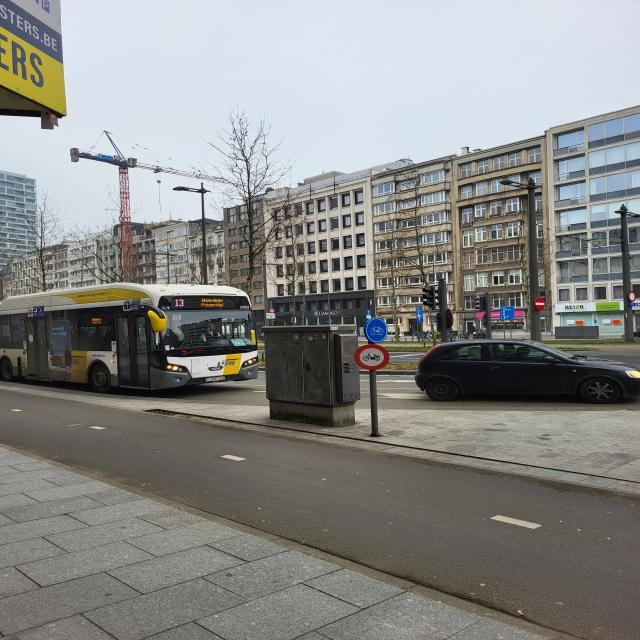bus-number: (173, 299, 184, 307)
